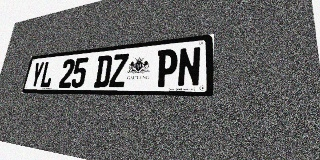2: (58, 58, 76, 88)
5: (71, 57, 89, 88)
D: (93, 55, 113, 88)
L: (39, 60, 55, 88)
N: (177, 46, 201, 87)
P: (155, 48, 178, 87)
Y: (29, 62, 45, 88)
Z: (109, 53, 129, 87)
